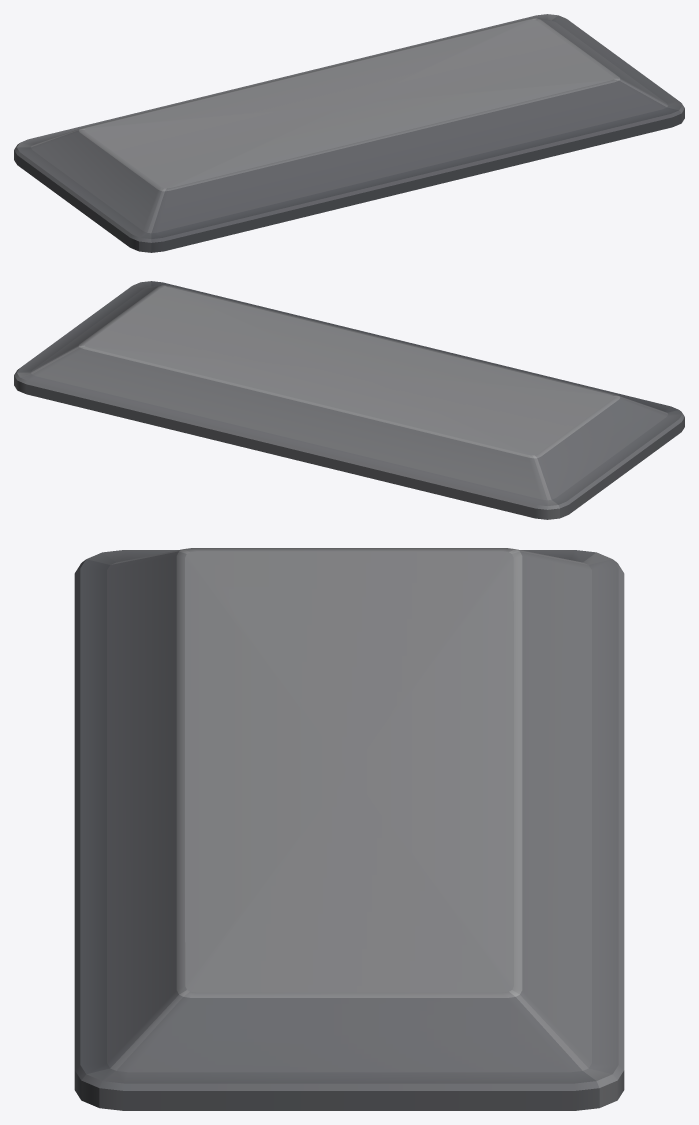
The model's file is grill_short_upper.fbx.
3 renders of one model, top to bottom at view 1: azimuth 30°, elevation 25°; view 2: azimuth 150°, elevation 25°; view 3: azimuth 270°, elevation 25°, orthographic. The views are drawn at different scales.
Visible parts, largest first — view 1: grill_short_upper; view 2: grill_short_upper; view 3: grill_short_upper.
Boxes of the visible parts, x1=… form: grill_short_upper: x1=14, y1=14, x2=684, y2=252; grill_short_upper: x1=14, y1=281, x2=684, y2=519; grill_short_upper: x1=74, y1=548, x2=624, y2=1110.
Size of the model in its own units: 13 by 0.7863 by 5.61.
